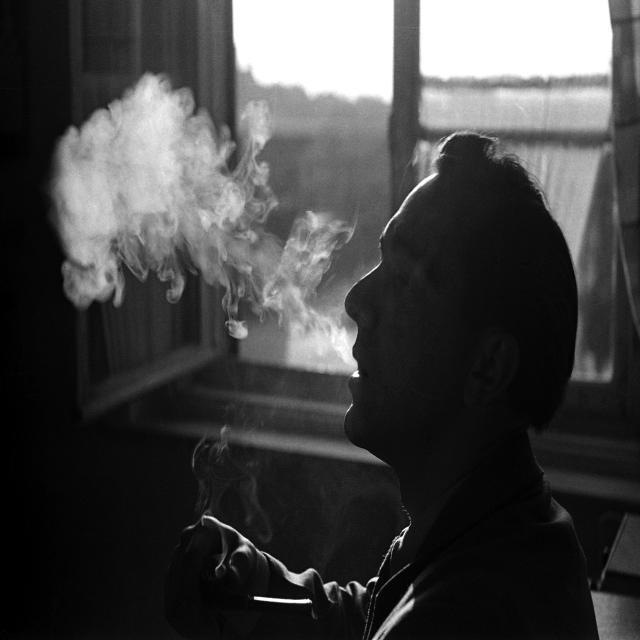Smoke: (54, 68, 352, 350)
